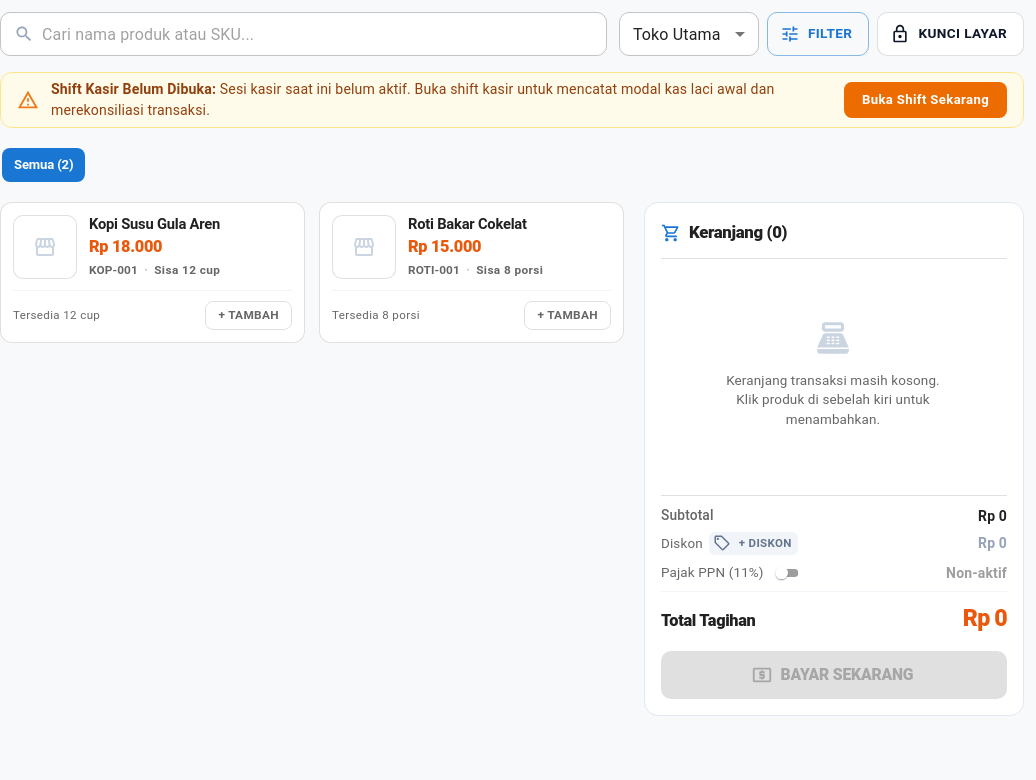
it: PosPage › renders products, adds item to cart, and updates total
Check: the heading "Roti Bakar Cokelat" is shown, box [408, 215, 527, 233]
// Click product to add to cart
What coordinates should you click on to do the following:
click the heading "Kopi Susu Gula Aren"
I would click on:
 (154, 224)
Its box is [89, 215, 220, 233].
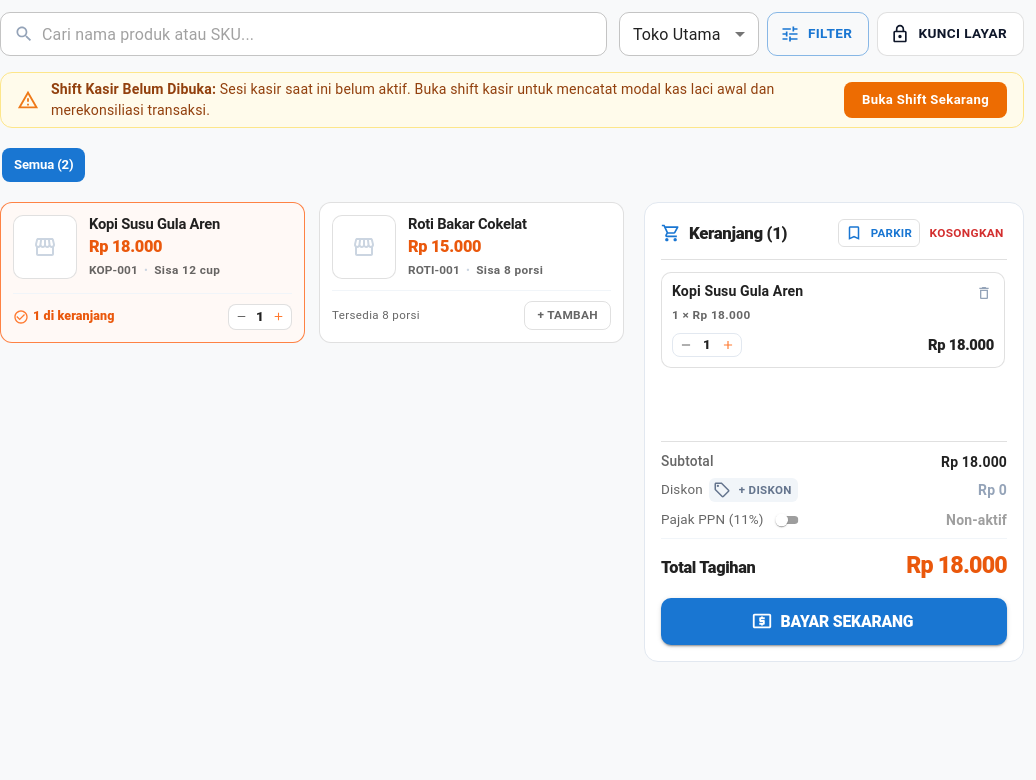
Check: the heading "Total Tagihan" is shown, box [661, 554, 756, 582]
Check: the heading "Keranjang (1)" is shown, box [689, 220, 787, 246]
// Add again
What coordinates should you click on to do the following:
click the heading "Kopi Susu Gula Aren" next to "Roti Bakar Cokelat"
I would click on:
 (154, 224)
Its box is [89, 215, 220, 233].
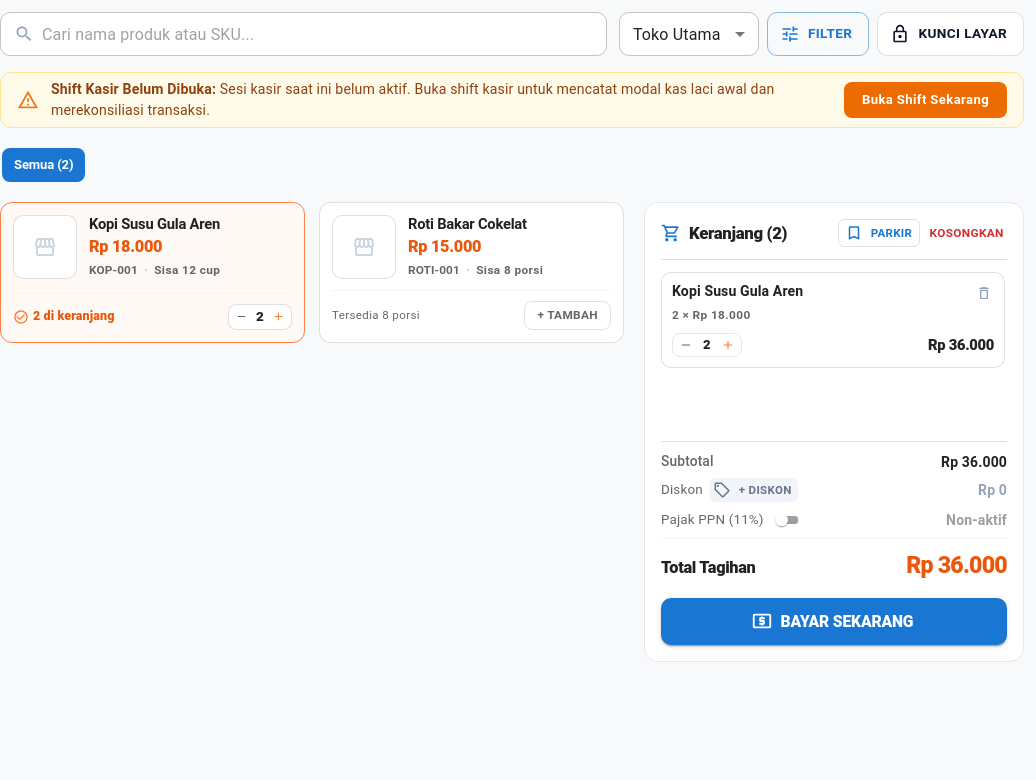
Check: the heading "Keranjang (2)" is shown, box [689, 220, 787, 246]
